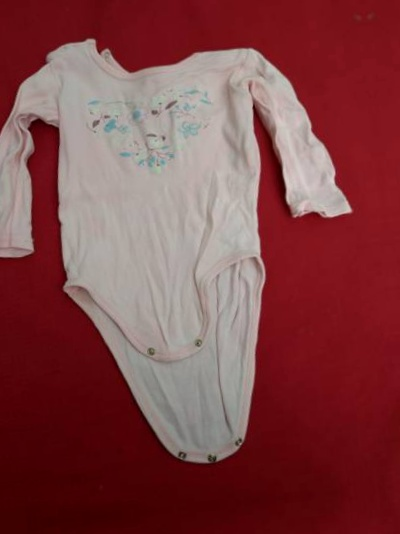Body: (0, 1, 394, 474), (377, 0, 400, 433)
